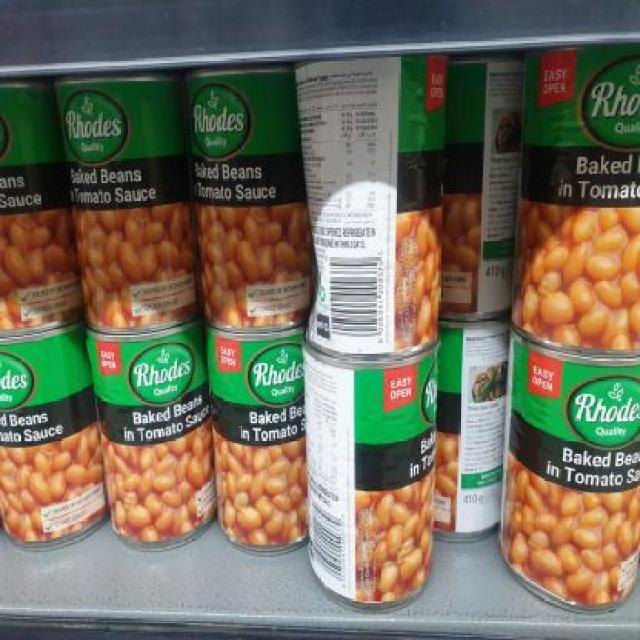Beans: (186, 70, 326, 342), (446, 65, 563, 323), (328, 73, 444, 327), (204, 344, 321, 576), (442, 323, 553, 545), (322, 328, 432, 548), (2, 319, 90, 572), (112, 85, 196, 310), (566, 68, 639, 320), (550, 326, 638, 534), (121, 310, 214, 502), (0, 91, 69, 338), (67, 303, 138, 497), (62, 96, 120, 302)
